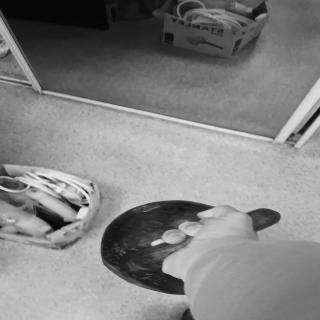kettlebell: (103, 201, 281, 296)
